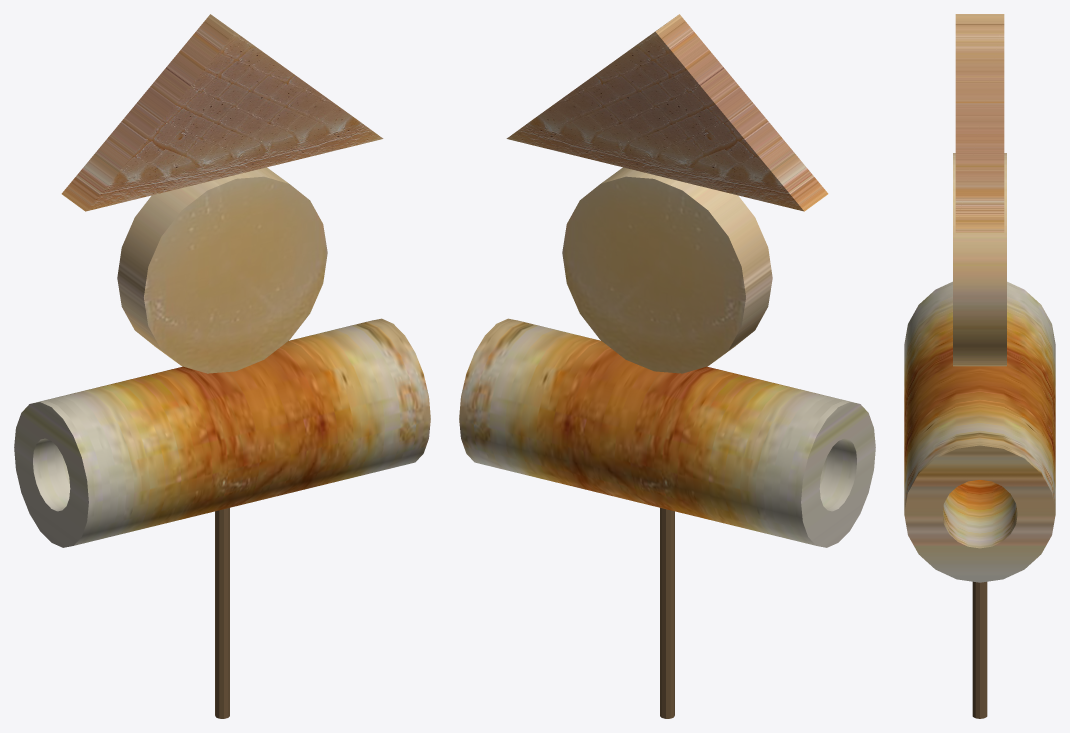
The model's file is oden.fbx.
3 views of the same model, side by side, from view 1: azimuth 30°, elevation 25°; view 2: azimuth 150°, elevation 25°; view 3: azimuth 270°, elevation 25° (orthographic).
Visible parts, largest first — view 1: pCylinder4; view 2: pCylinder4; view 3: pCylinder4.
Part boxes in pixels (box(x1,y1,x2,y2)): pCylinder4: box(14, 14, 430, 718); pCylinder4: box(459, 14, 875, 718); pCylinder4: box(904, 14, 1055, 718).
Size of the model in its own units: 0.9635 by 1.87 by 0.3651.
Materials: 2 (1 with a texture image).
